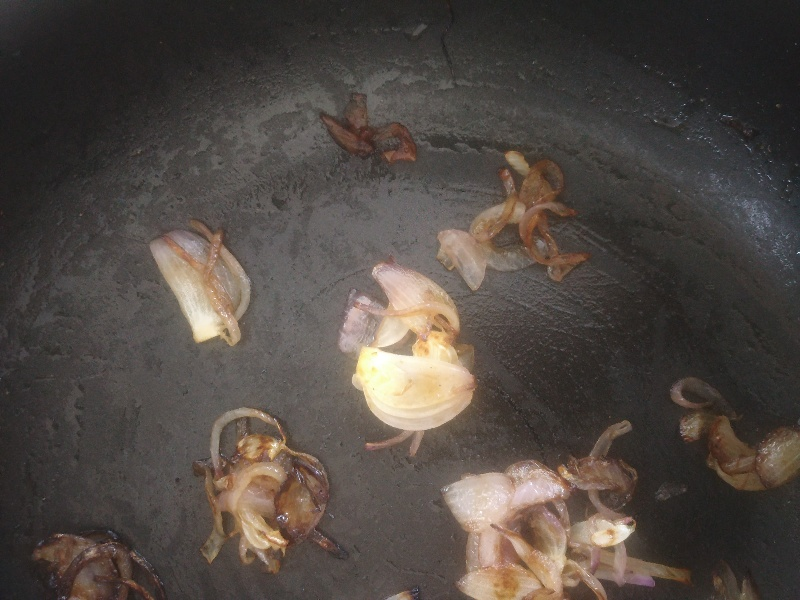onion_fried: (191, 414, 335, 569), (666, 373, 800, 490), (463, 152, 585, 276)
onion_golden: (442, 448, 651, 600), (342, 259, 471, 451), (147, 223, 250, 348)
